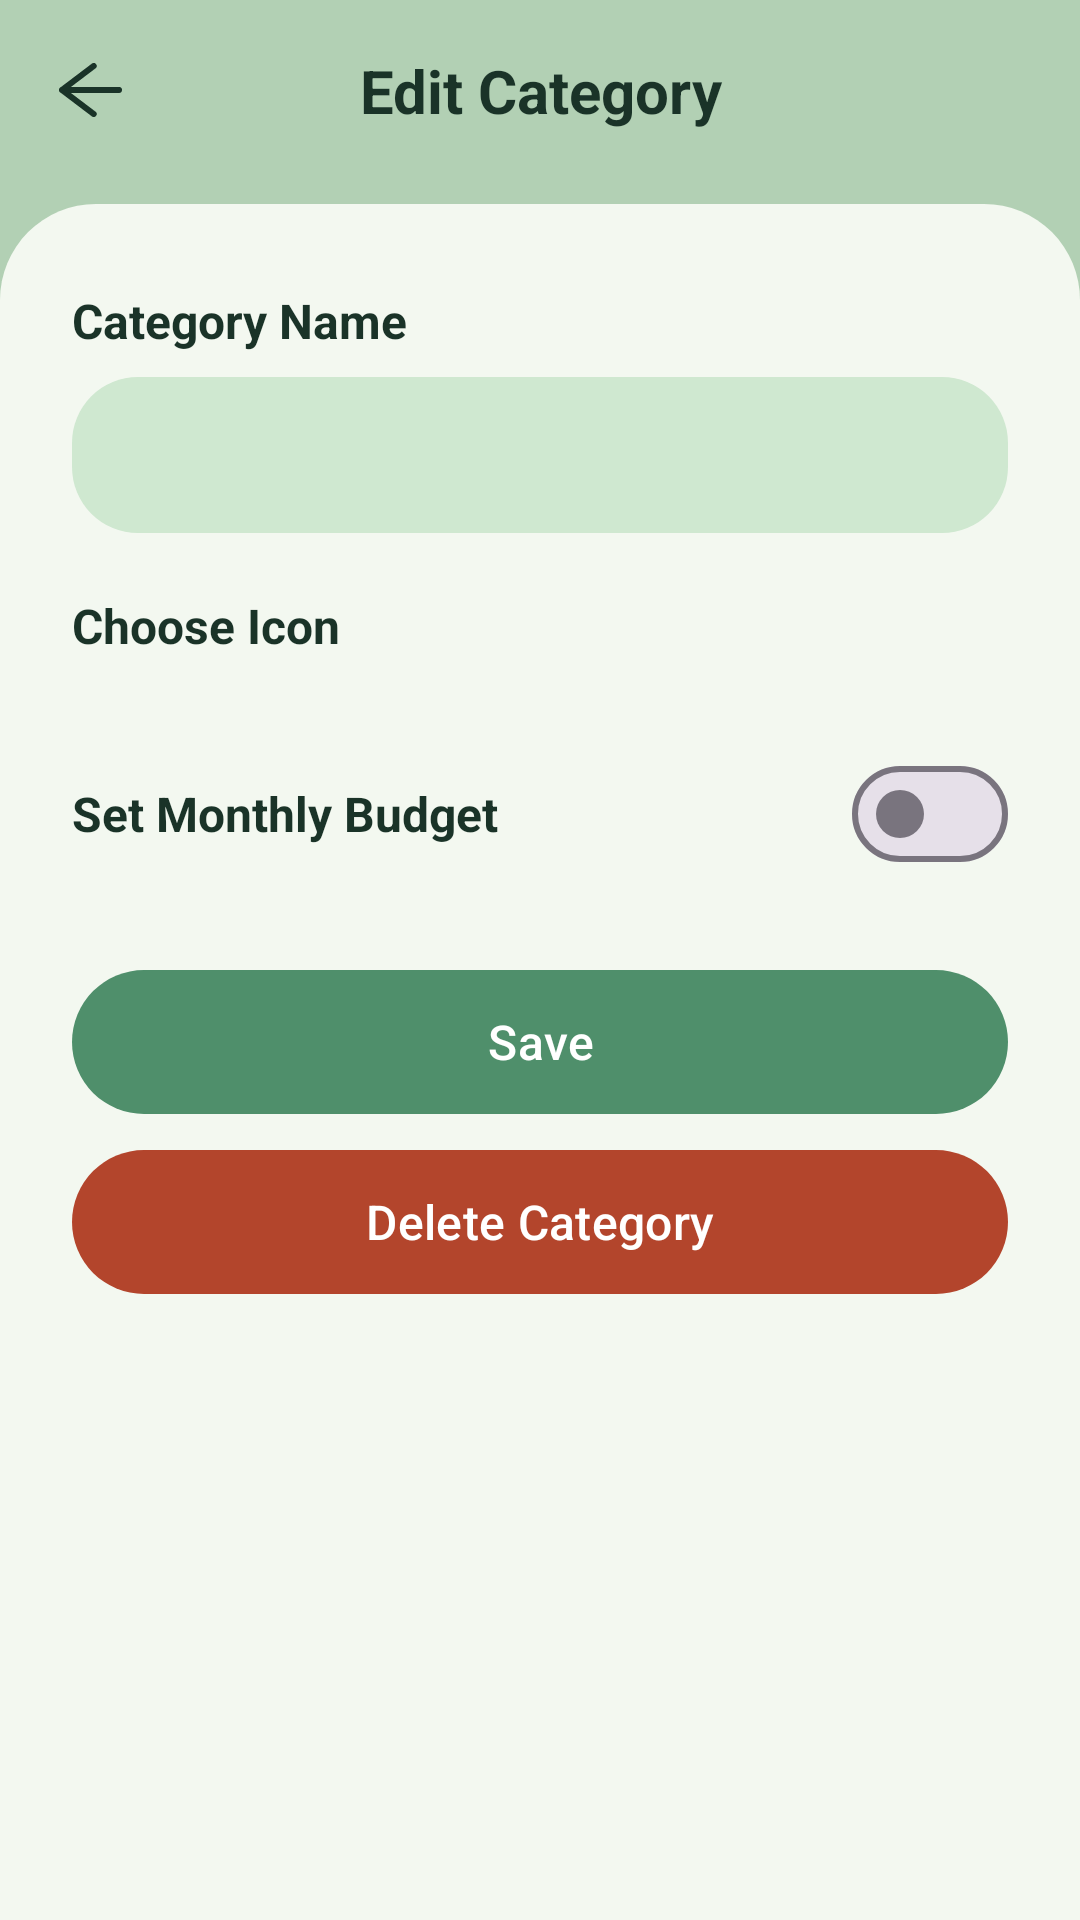

Icon click points for this 1080×1920 phone screenshot, format point (x, y):
Back: point (90, 90)
